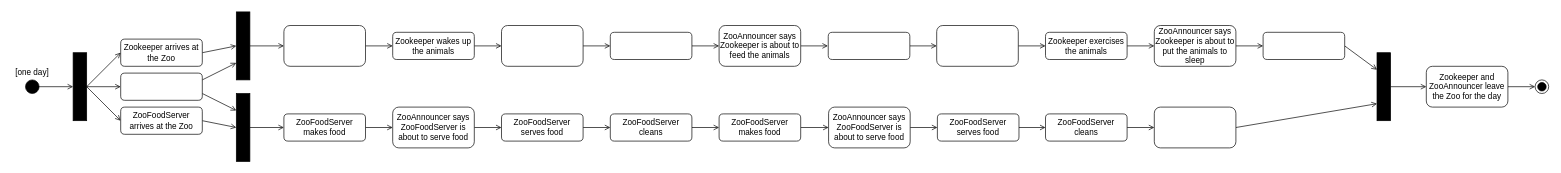
Some shapes in this 1561 by 173 pixel diagram are drawn without their labels. Each missing label, with the centre of its shape:
"ZooAnnouncer arrives at the Zoo" goes at (x=161, y=86).
"ZooAnnouncer says Zookeeper is about to exercise the animals" goes at (x=977, y=45).
"ZooAnnouncer says Zookeeper is about to roll call the animals" goes at (x=542, y=45).
"ZooAnnouncer says Zookeeper is about to wake up the animals" goes at (x=324, y=45).
"ZooFoodServer leaves the Zoo for the day" goes at (x=1195, y=127).
"Zookeeper feeds the animals" goes at (x=869, y=46).
"Zookeeper puts the animals to sleep" goes at (x=1303, y=46).
"Zookeeper roll calls the animals" goes at (x=651, y=46).
